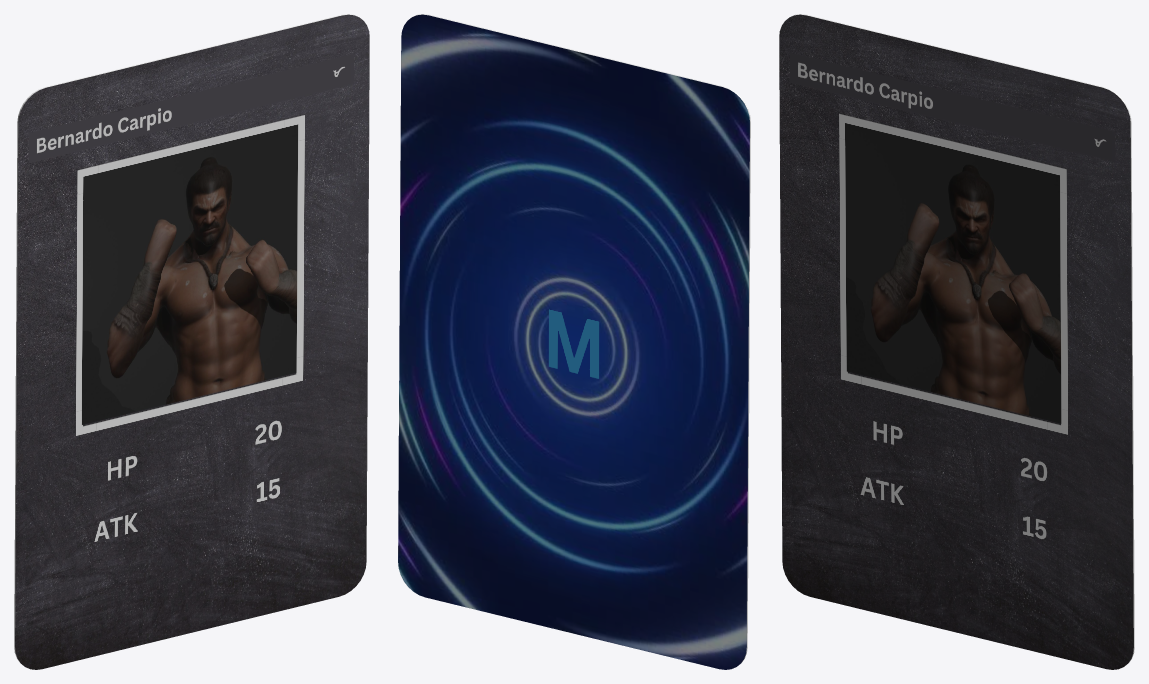
Rendered from Bernardo Carpio.glb.
3 renders of one model, left to right at view 1: azimuth 30°, elevation 25°; view 2: azimuth 150°, elevation 25°; view 3: azimuth 330°, elevation 25°, orthographic.
Parts seen in each view (by area): view 1: Card; view 2: Card; view 3: Card.
Boxes of the visible parts, left/top/right/bottom form: Card: left=14, top=14, right=369, bottom=669; Card: left=398, top=14, right=750, bottom=669; Card: left=779, top=14, right=1134, bottom=669.
Bounding box in the file's own units: 0.056 × 0.0889 × 0.00122.
3 materials, 2 textured.
